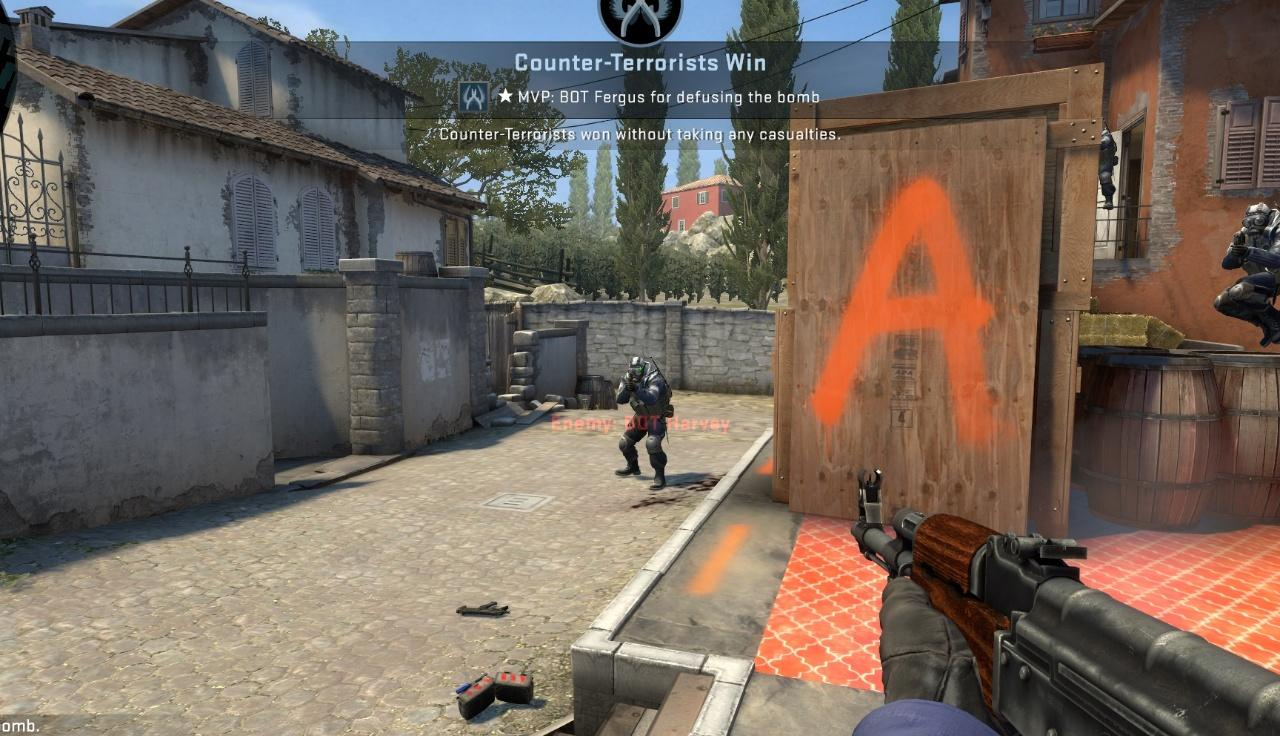ct: (1217, 202, 1280, 348), (624, 356, 668, 486), (1100, 123, 1118, 210)
cthead: (1241, 202, 1273, 237), (628, 356, 647, 383)
rifle: (855, 467, 1280, 736)
